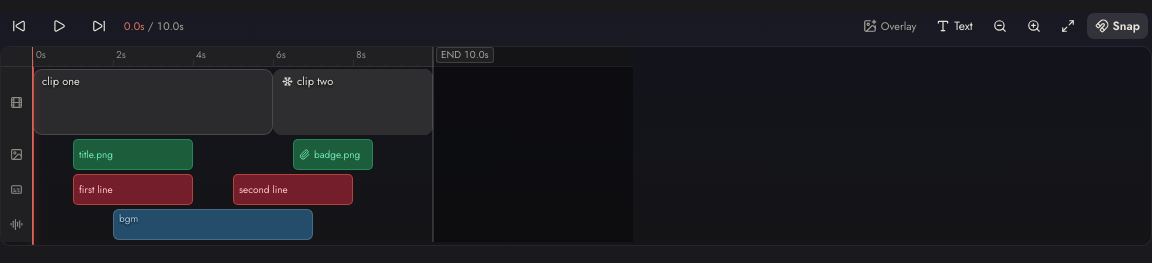
Test: 主軌 trim-in 捲動補償——邊釘手指下（Plan 12 Task 1，幾何解見 plan 診斷依據） › 主軌 trim-out 的吸附行為不受本批影響（裁決 1/2 只動 trim-in）
Press the mouse on the 2nd element with class "handle" at {"x": 270, "y": 102}, box [267,69,273,135]
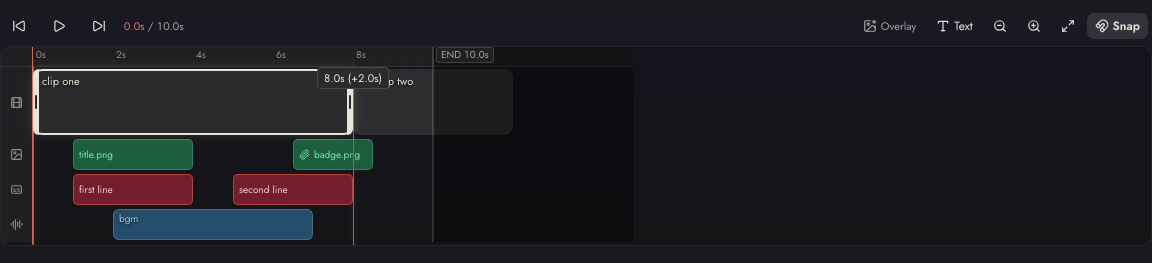
Result: the text "8.0s" is shown at [324,70,382,86]
